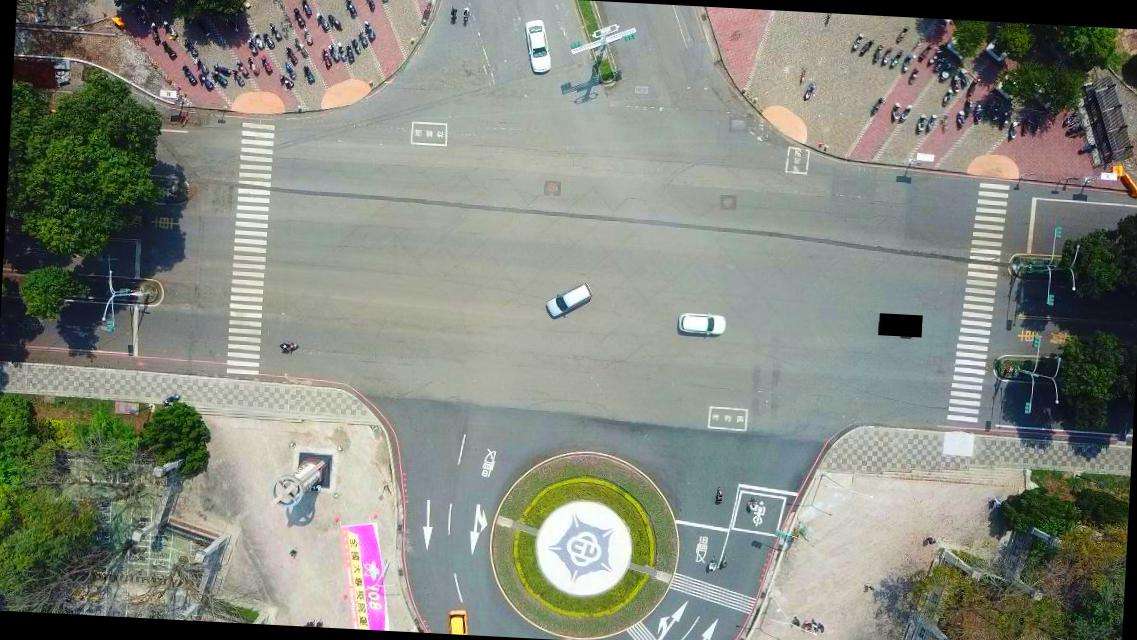vehicle: (543, 280, 593, 322), (520, 18, 555, 75), (676, 310, 726, 338)
